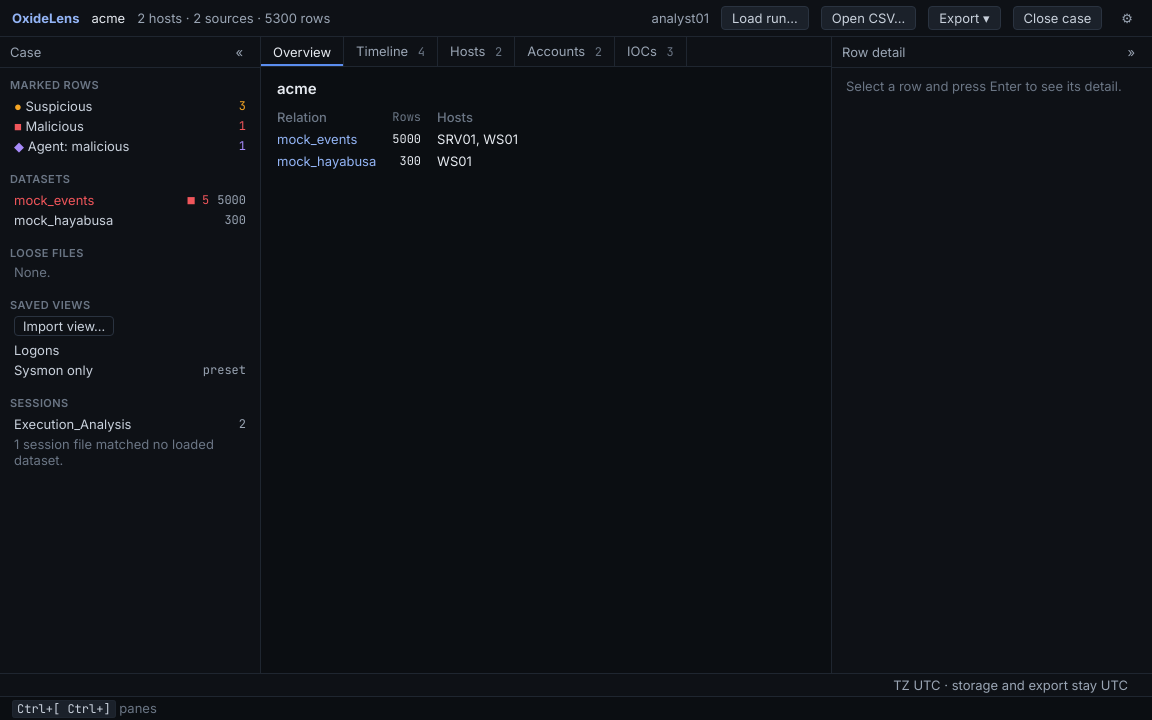
Test case: the Timeline sheet › entries_sort_with_undated_last
The image size is (1152, 720).
Earlier steps of the test are not shown.
expect the tab "Overview" is shown: met, box [261,38,343,66]
Click the tab "Timeline 4". click: (391, 52)
box: [344,37,437,66]
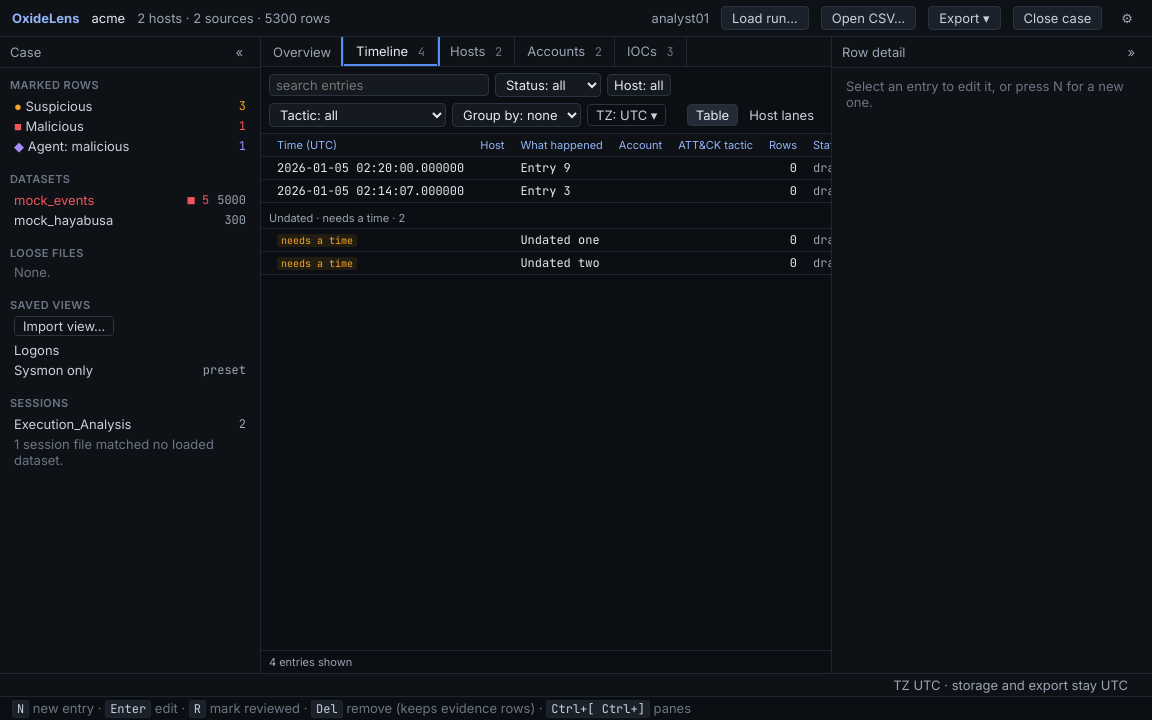
expect the table named "Timeline entries" is shown: met, box [261,134,831,275]
expect the row "Undated · needs a time · 2" is shown: met, box [261,202,831,228]
expect the cell "needs a time" next to "Undated one" is shown: met, box [281,234,353,247]
